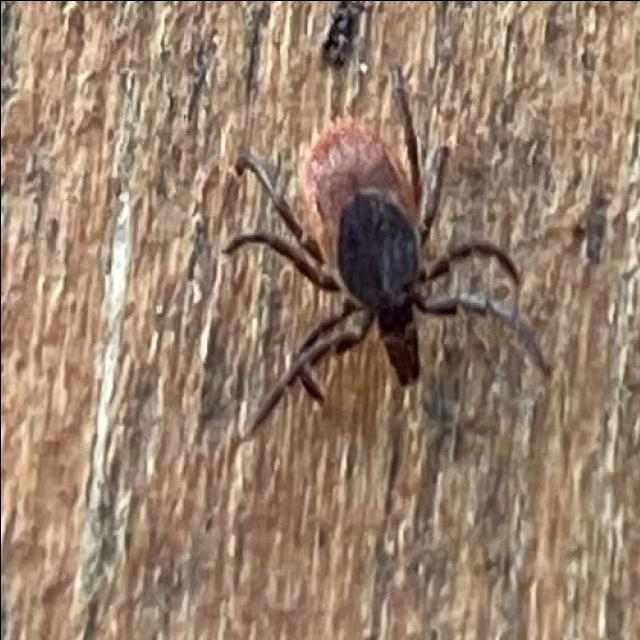Ixodes Ricinus-F: (224, 63, 549, 440)
